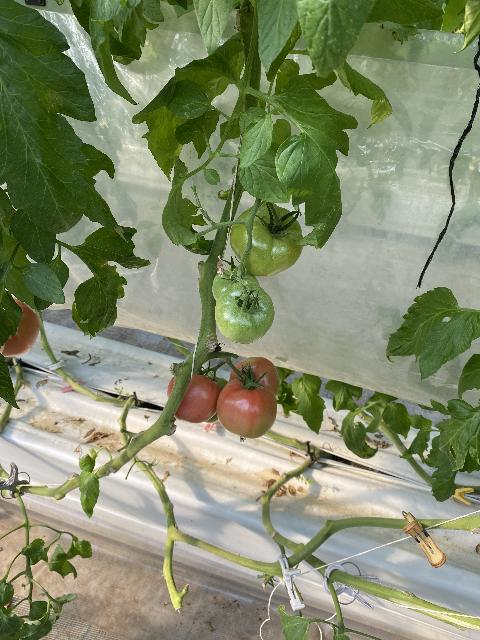b_fully_ripened: (167, 374, 221, 423)
b_green: (230, 201, 305, 277), (215, 281, 275, 344), (212, 269, 261, 302)
b_half_ripened: (216, 379, 278, 439), (3, 299, 41, 357), (230, 356, 279, 397)
